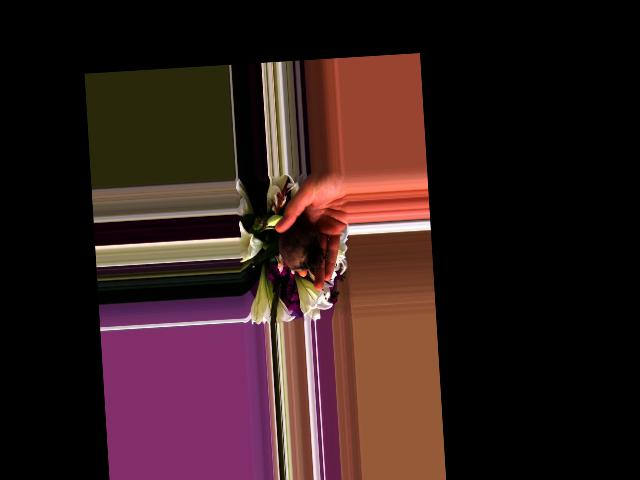beet: (256, 216, 323, 275)
